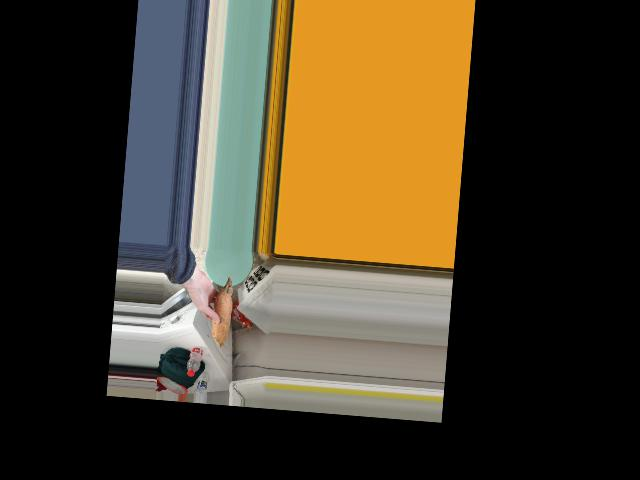sweet_potato: (205, 277, 234, 338)
